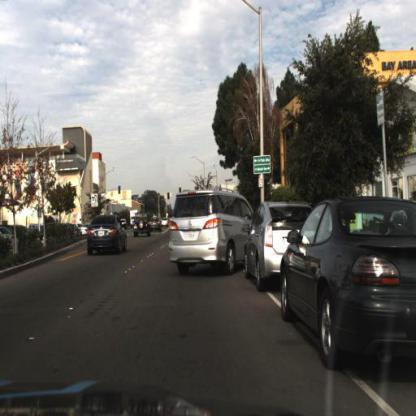car: (282, 195, 416, 372), (165, 182, 250, 286), (169, 188, 258, 272), (243, 201, 306, 295), (86, 209, 129, 259), (289, 195, 340, 236), (133, 211, 153, 236), (148, 211, 165, 236)
